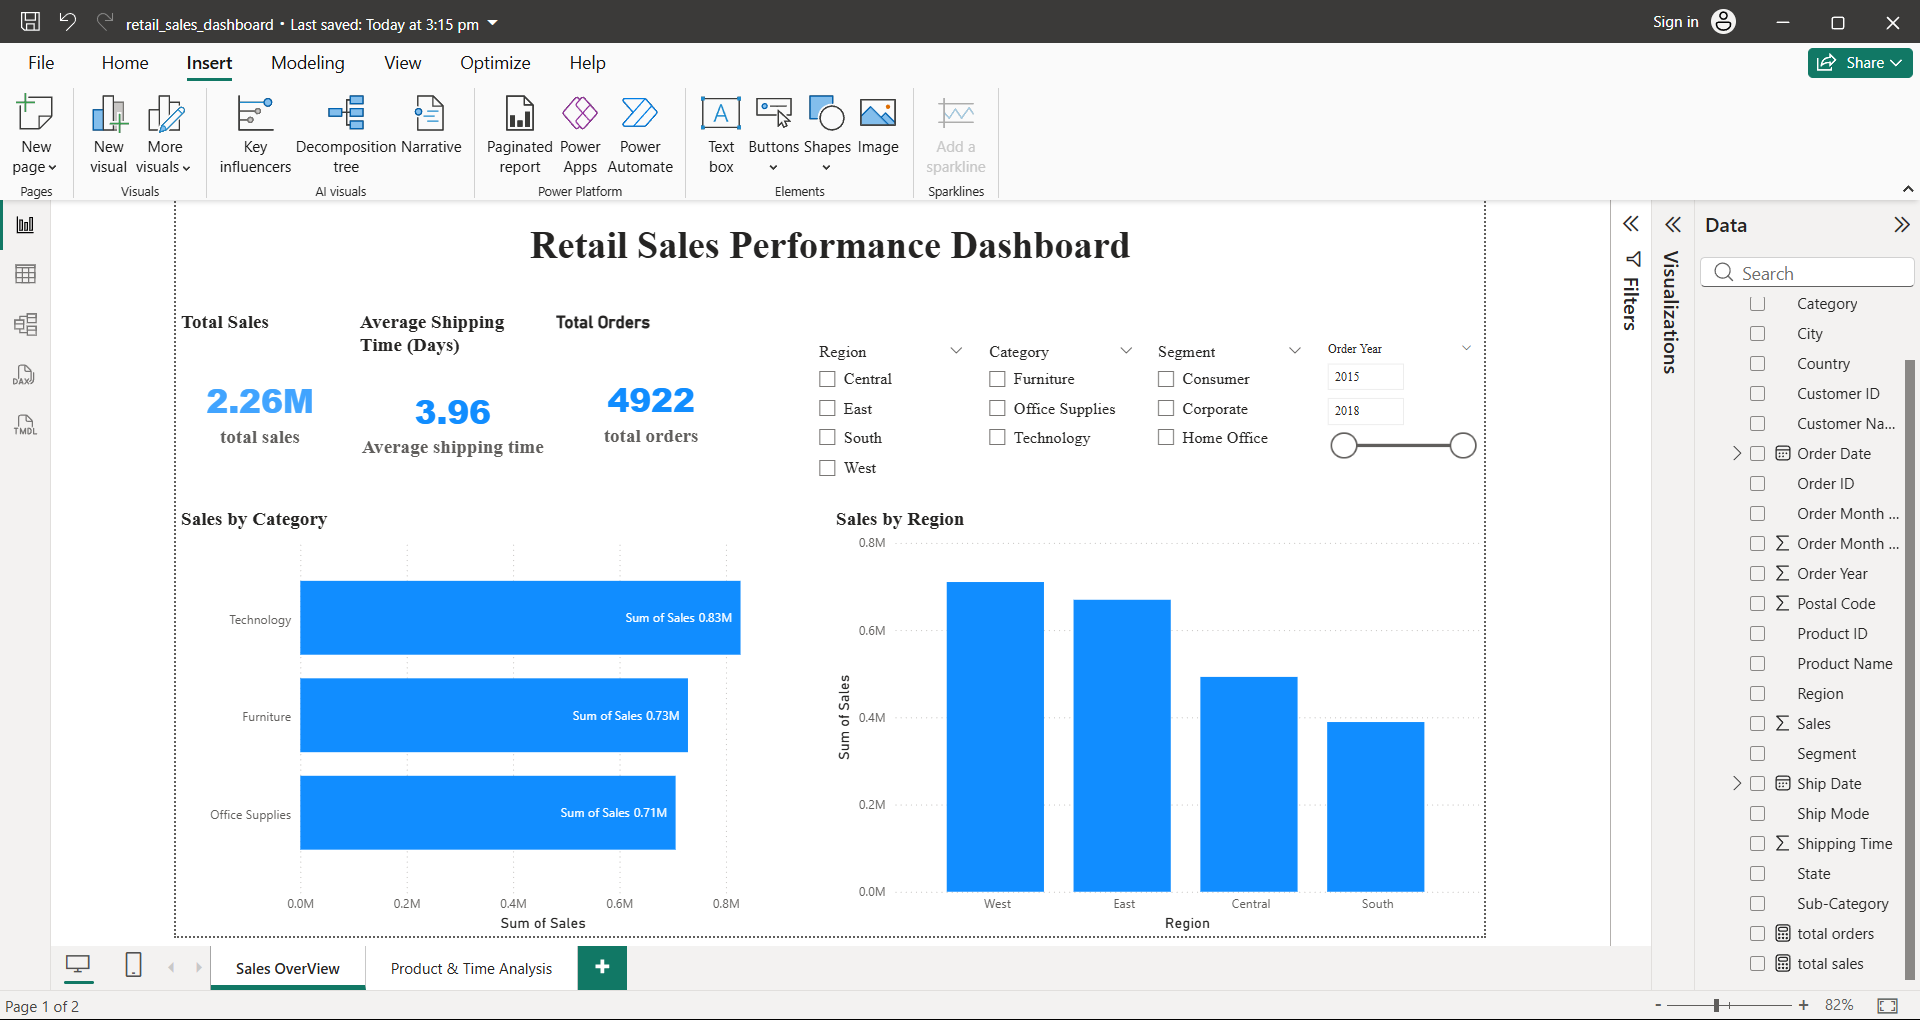

This screenshot's page, from the dashboard's own definition file:
{"tool":"powerbi","page":{"name":"Sales OverView","canvas":[1280,720],"ordinal":0},"visuals":[{"type":"card","title":"Total Sales","fields":{"Values":["train.total sales"]},"box":[0,108.4,164.7,175.6],"z":0},{"type":"card","title":"Total Orders","fields":{"Values":["train.total orders"]},"box":[366.4,108.4,196.2,175.6],"z":1000},{"type":"card","title":"Average Shipping Time (Days)","fields":{"Values":["train.Average shipping time"]},"box":[174.3,108.4,192.1,175.6],"z":2000},{"type":"clusteredBarChart","title":"Sales by Category","fields":{"Y":["Sum(train.Sales)"],"Category":["train.Category"]},"box":[0,300.5,616.1,419.9],"z":3000},{"type":"clusteredColumnChart","title":" Sales by Region","fields":{"Y":["Sum(train.Sales)"],"Category":["train.Region"]},"box":[640.8,300.5,639.5,419.9],"z":4000},{"type":"slicer","fields":{"Values":["train.Region"]},"box":[616.1,134.5,166,149],"z":5000},{"type":"slicer","fields":{"Values":["train.Category"]},"box":[782.2,134.5,166,149.6],"z":6000},{"type":"slicer","fields":{"Values":["train.Segment"]},"box":[948.2,134.5,166,149.6],"z":7000},{"type":"slicer","fields":{"Values":["train.Order Year"]},"box":[1114.2,134.5,166,149.6],"z":8000},{"type":"textbox","box":[0,0,1280.3,91.9],"z":9000}]}

Visuals, with their boxes on the page's 1280x720 design canvas (x1, y1, x2, y2). These are canvas units, not pixel positions in the 1920x1020 screenshot, which may show the page scaled, cropped or inside an application window:
"Total Sales" card: {"x1": 0, "y1": 108, "x2": 165, "y2": 284}
"Total Orders" card: {"x1": 366, "y1": 108, "x2": 563, "y2": 284}
"Average Shipping Time (Days)" card: {"x1": 174, "y1": 108, "x2": 366, "y2": 284}
"Sales by Category" clusteredBarChart: {"x1": 0, "y1": 300, "x2": 616, "y2": 720}
" Sales by Region" clusteredColumnChart: {"x1": 641, "y1": 300, "x2": 1280, "y2": 720}
slicer - train.Region: {"x1": 616, "y1": 134, "x2": 782, "y2": 284}
slicer - train.Category: {"x1": 782, "y1": 134, "x2": 948, "y2": 284}
slicer - train.Segment: {"x1": 948, "y1": 134, "x2": 1114, "y2": 284}
slicer - train.Order Year: {"x1": 1114, "y1": 134, "x2": 1280, "y2": 284}
textbox: {"x1": 0, "y1": 0, "x2": 1280, "y2": 92}
